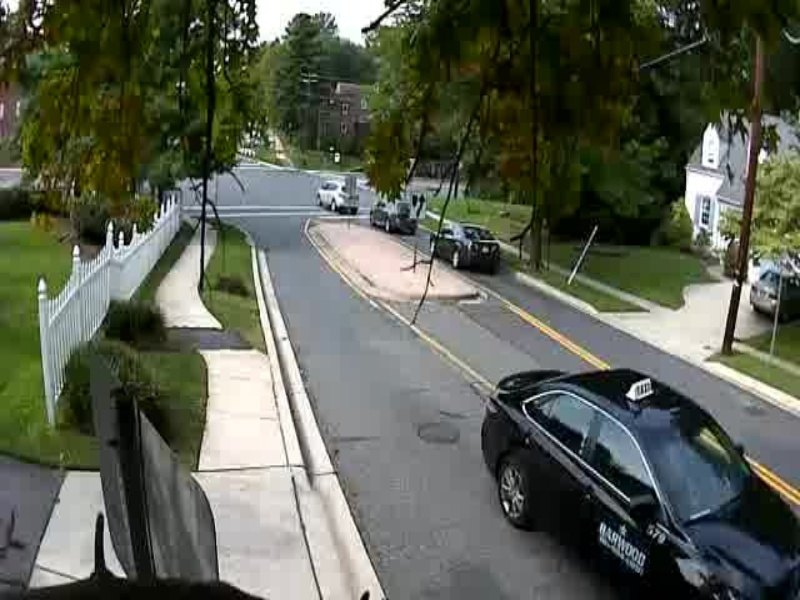car: (480, 363, 800, 600), (421, 213, 511, 281)
